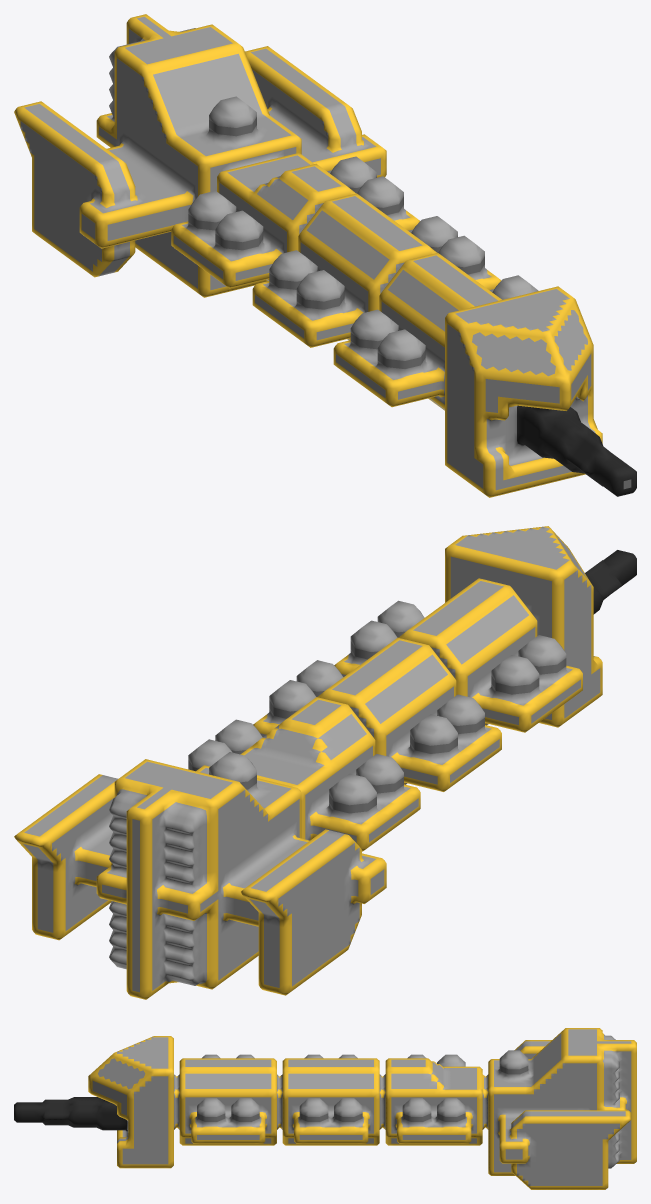
The model's file is mechyrdia-5-nova-roma-class.obj.
3 views of the same model, one above another, from view 1: azimuth 30°, elevation 25°; view 2: azimuth 150°, elevation 25°; view 3: azimuth 270°, elevation 25° (orthographic). The views are drawn at different scales.
Bounding box in the file's own units: 37 × 23 × 109.
Materials: 1 (1 with a texture image).
